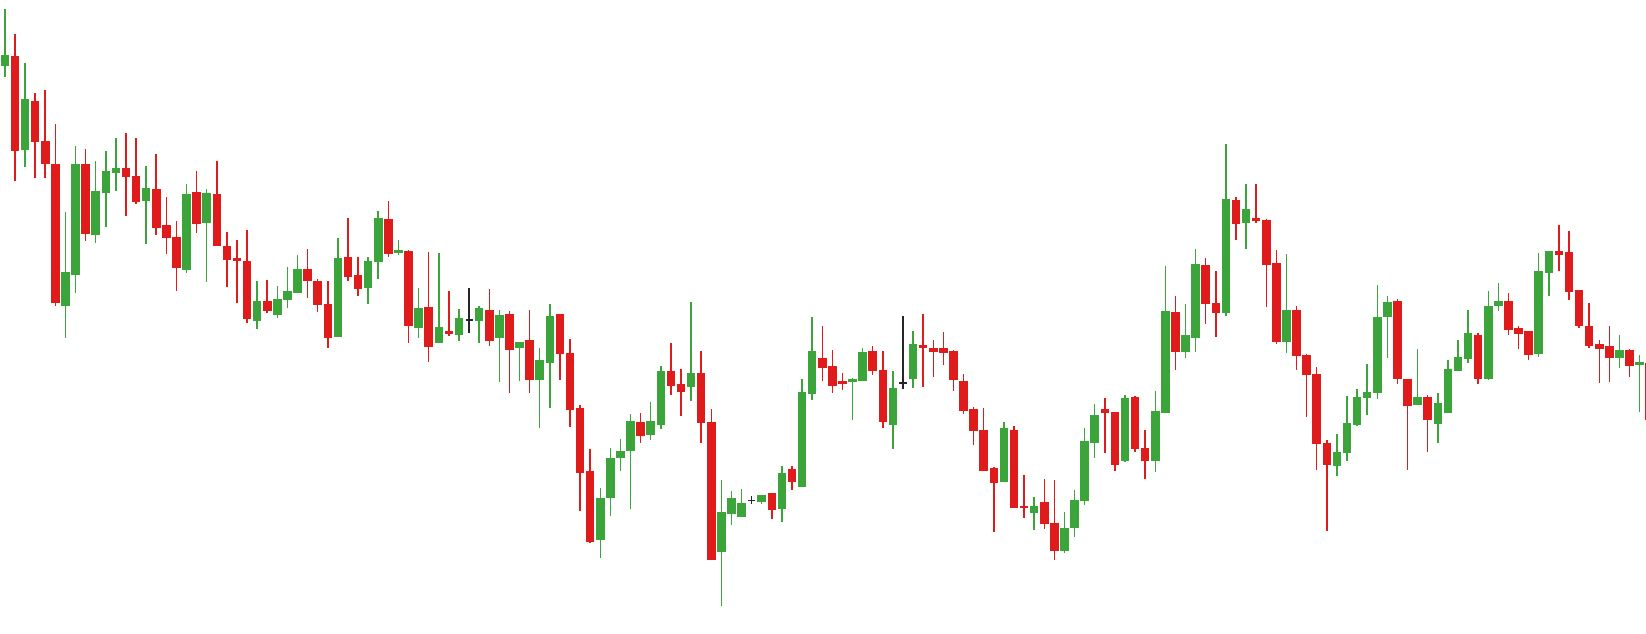buy: (1140, 290, 1343, 536), (586, 423, 729, 611)
sell: (1494, 214, 1574, 334), (818, 310, 909, 394)
